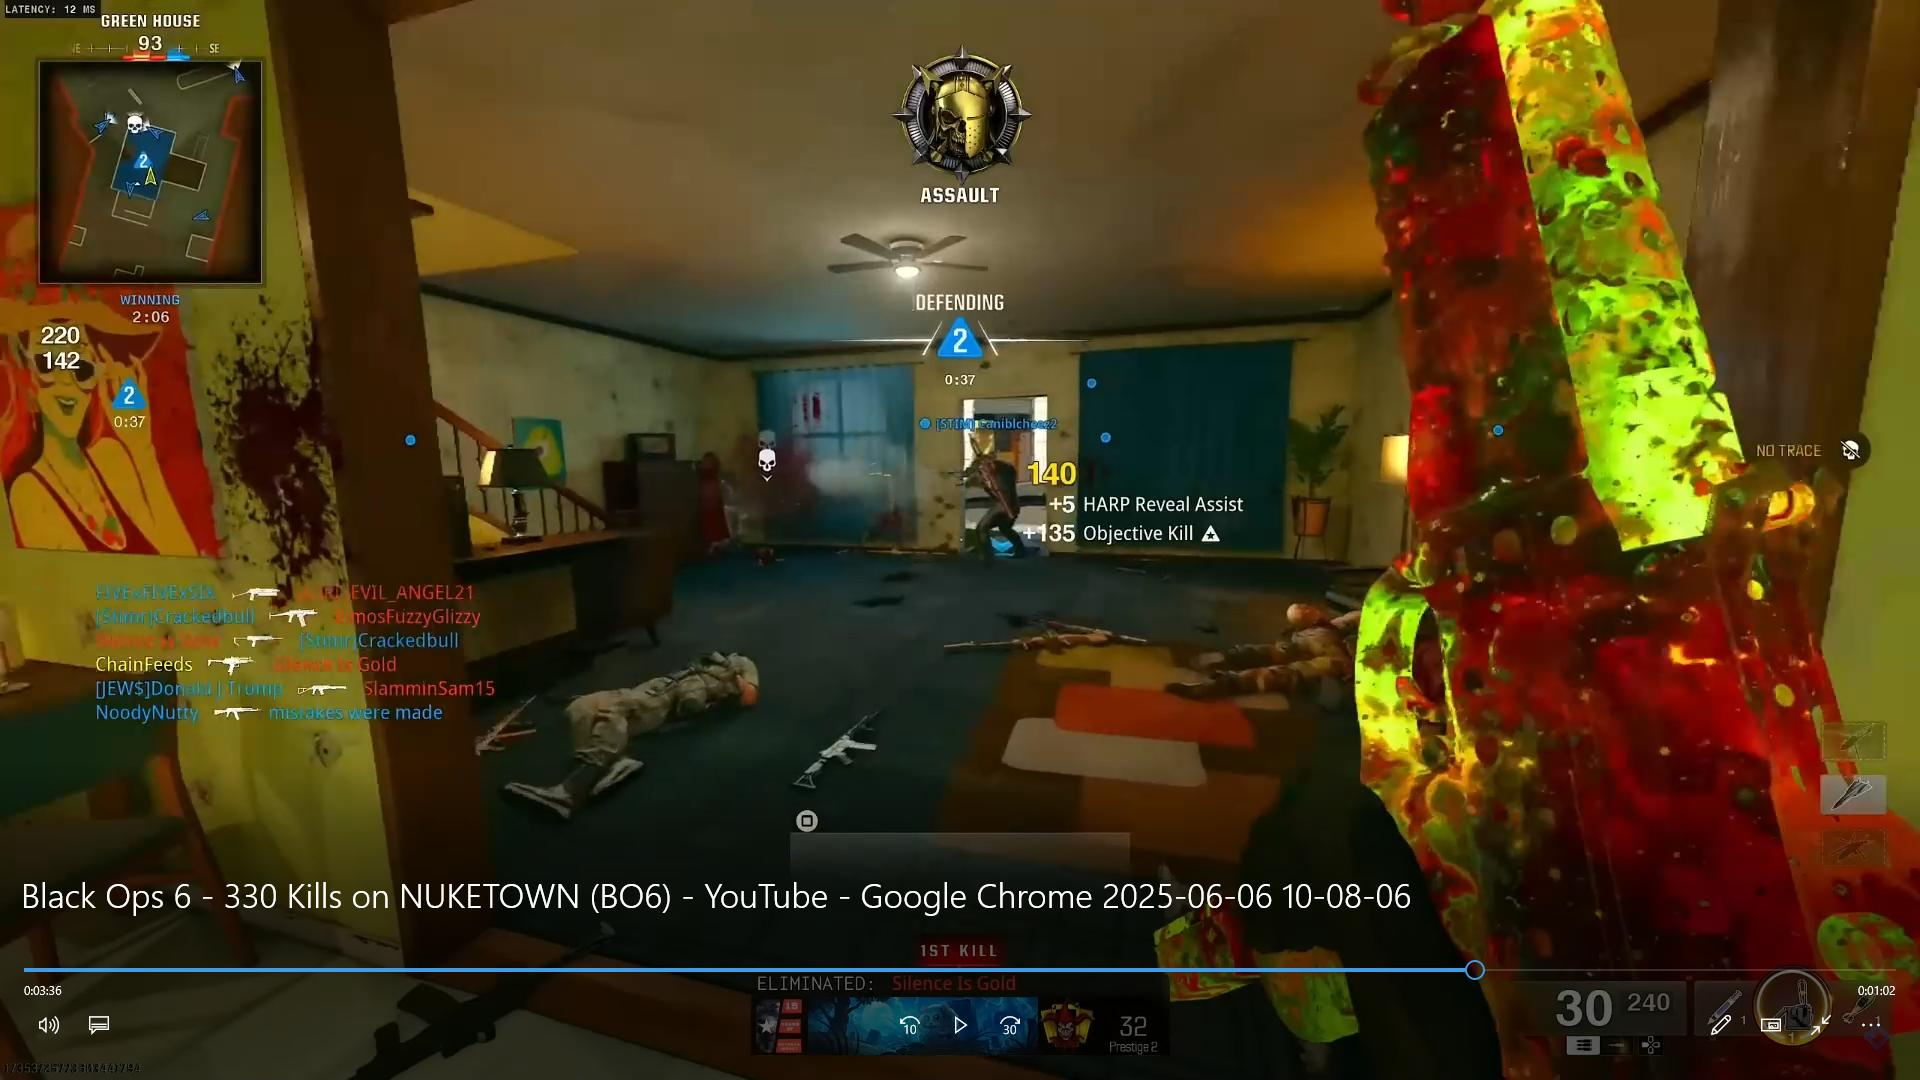Enemy: (948, 444, 1038, 550)
